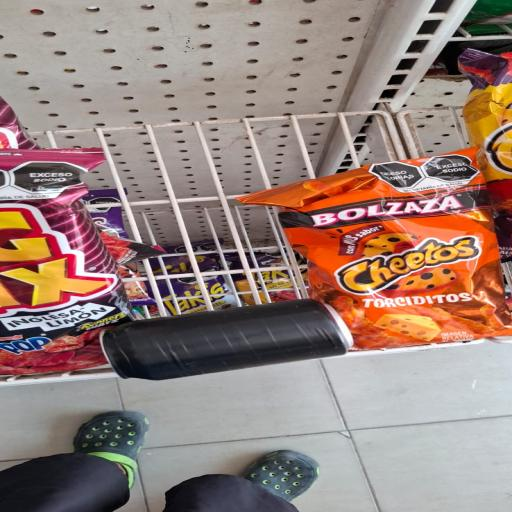LATA: (82, 298, 365, 385)
